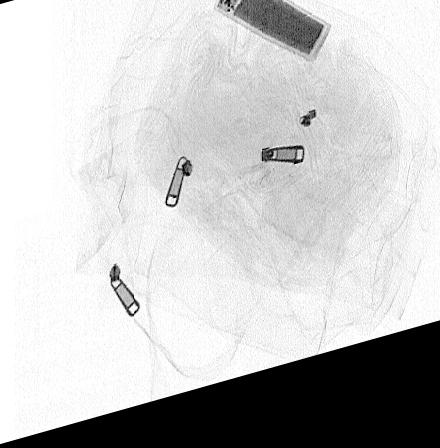Powerbank: (212, 0, 331, 80)
